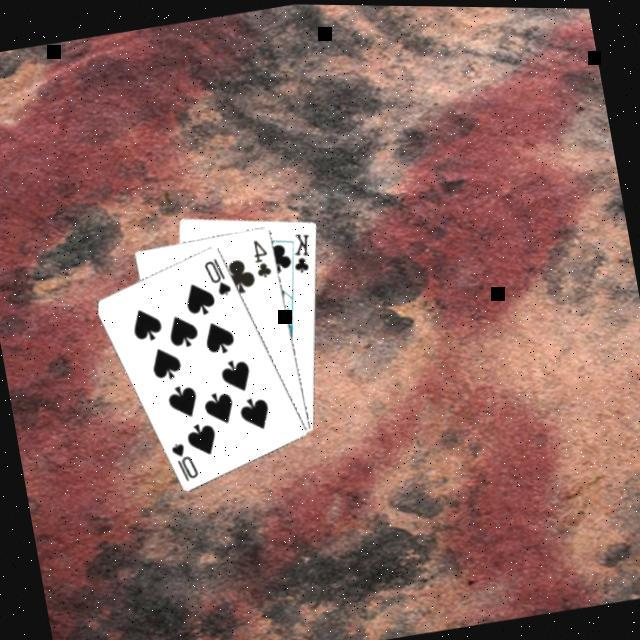10S: (167, 436, 203, 486), (200, 254, 236, 302)
4C: (249, 235, 276, 282)
KC: (282, 229, 320, 280)
